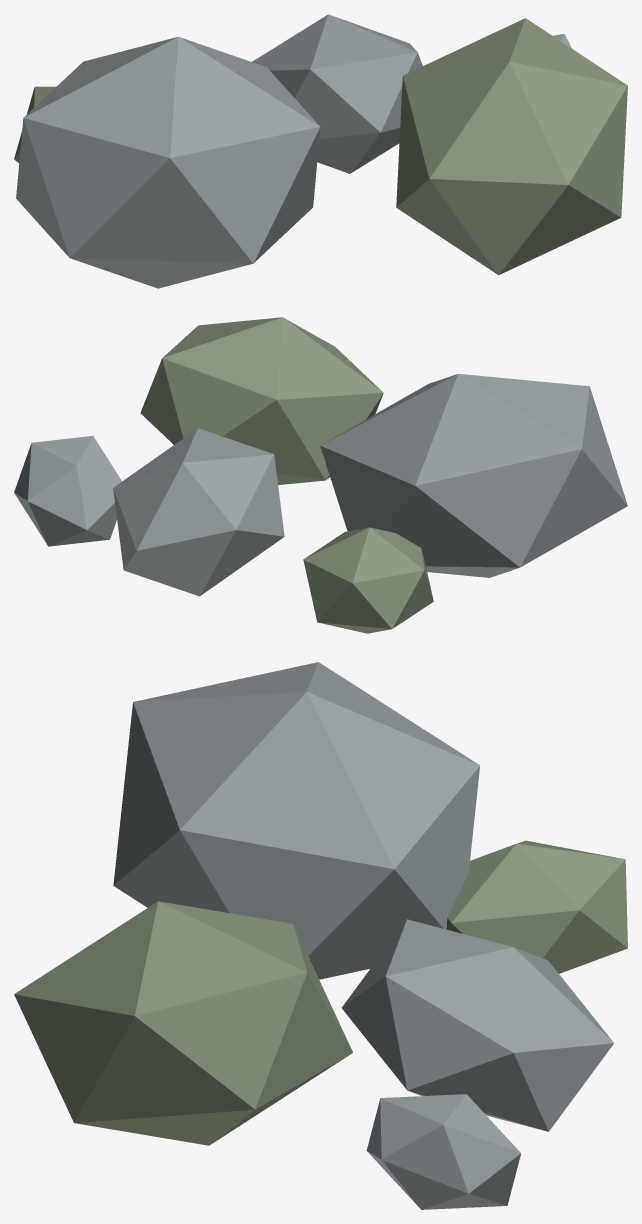
Rendered from rock_cluster_small_1p5m.glb.
The picture shows the model from 3 angles, top to bottom: view 1: azimuth 30°, elevation 25°; view 2: azimuth 150°, elevation 25°; view 3: azimuth 270°, elevation 25°; orthographic projection. The views are drawn at different scales.
Visible parts, largest first — view 1: rock_cluster_stone_01, rock_cluster_stone_02, rock_cluster_stone_03, rock_cluster_stone_04; view 2: rock_cluster_stone_01, rock_cluster_stone_02, rock_cluster_stone_03, rock_cluster_stone_04, rock_cluster_stone_05; view 3: rock_cluster_stone_01, rock_cluster_stone_02, rock_cluster_stone_03, rock_cluster_stone_04, rock_cluster_stone_05.
Boxes of the visible parts, left/top/right/bottom form: rock_cluster_stone_01: left=16, top=36, right=320, bottom=288; rock_cluster_stone_02: left=396, top=18, right=627, bottom=275; rock_cluster_stone_03: left=252, top=14, right=422, bottom=173; rock_cluster_stone_04: left=14, top=86, right=55, bottom=162; rock_cluster_stone_01: left=320, top=373, right=627, bottom=577; rock_cluster_stone_02: left=140, top=317, right=383, bottom=485; rock_cluster_stone_03: left=113, top=428, right=284, bottom=596; rock_cluster_stone_04: left=303, top=527, right=433, bottom=633; rock_cluster_stone_05: left=14, top=436, right=121, bottom=546; rock_cluster_stone_01: left=113, top=662, right=480, bottom=979; rock_cluster_stone_02: left=14, top=901, right=352, bottom=1145; rock_cluster_stone_03: left=341, top=919, right=613, bottom=1131; rock_cluster_stone_04: left=446, top=840, right=627, bottom=973; rock_cluster_stone_05: left=366, top=1094, right=520, bottom=1209.
Bounding box in the file's own units: 1.48 × 0.5567 × 1.09.
